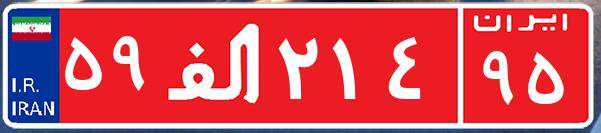1: (330, 28, 385, 110)
2: (273, 28, 330, 110)
4: (385, 28, 445, 110)
5: (57, 26, 110, 107), (525, 38, 570, 115)
9: (475, 38, 525, 113), (110, 28, 158, 105)
الف: (158, 15, 273, 115)
